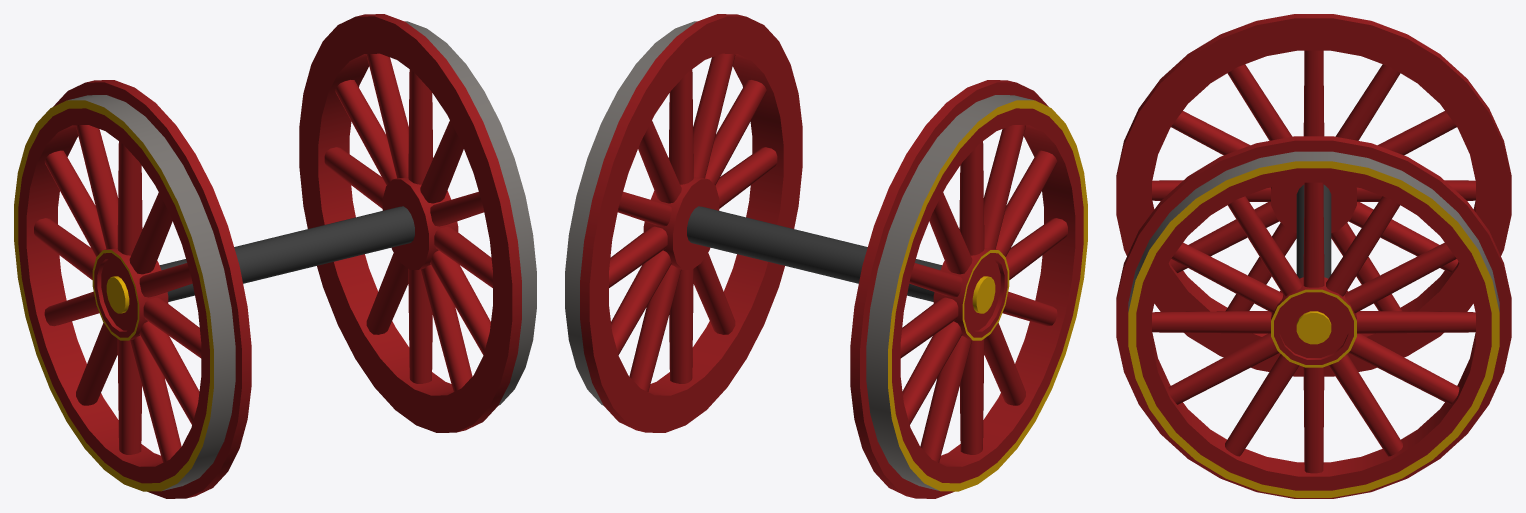
Rendered from SteamLocomotive_01_Wheels_01.fbx.
3 renders of one model, left to right at view 1: azimuth 30°, elevation 25°; view 2: azimuth 150°, elevation 25°; view 3: azimuth 270°, elevation 25°, orthographic. The views are drawn at different scales.
Visible parts, largest first — view 1: SteamLocomotive_01_Wheels_01; view 2: SteamLocomotive_01_Wheels_01; view 3: SteamLocomotive_01_Wheels_01.
Part boxes in pixels (x1,y1,x2,y2): SteamLocomotive_01_Wheels_01: [14, 14, 536, 498]; SteamLocomotive_01_Wheels_01: [565, 14, 1087, 498]; SteamLocomotive_01_Wheels_01: [1116, 14, 1511, 498].
Size of the model in its own units: 1.65 by 1.89 by 1.89.
